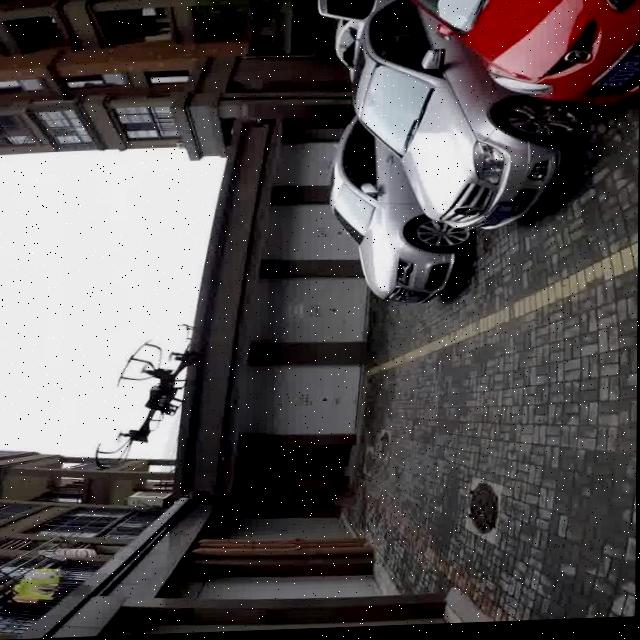drone: (83, 321, 215, 474)
